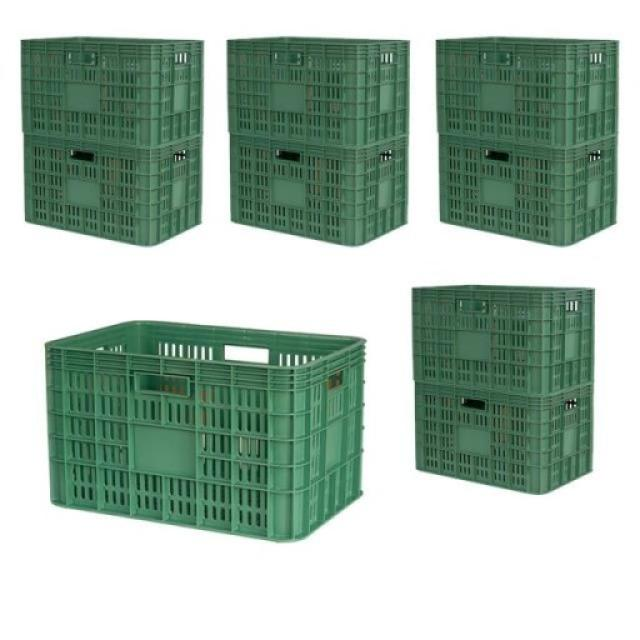basket: (33, 317, 373, 548), (413, 285, 596, 495), (227, 35, 410, 245), (437, 36, 620, 245), (22, 37, 203, 245), (440, 136, 618, 246), (231, 136, 408, 245)
